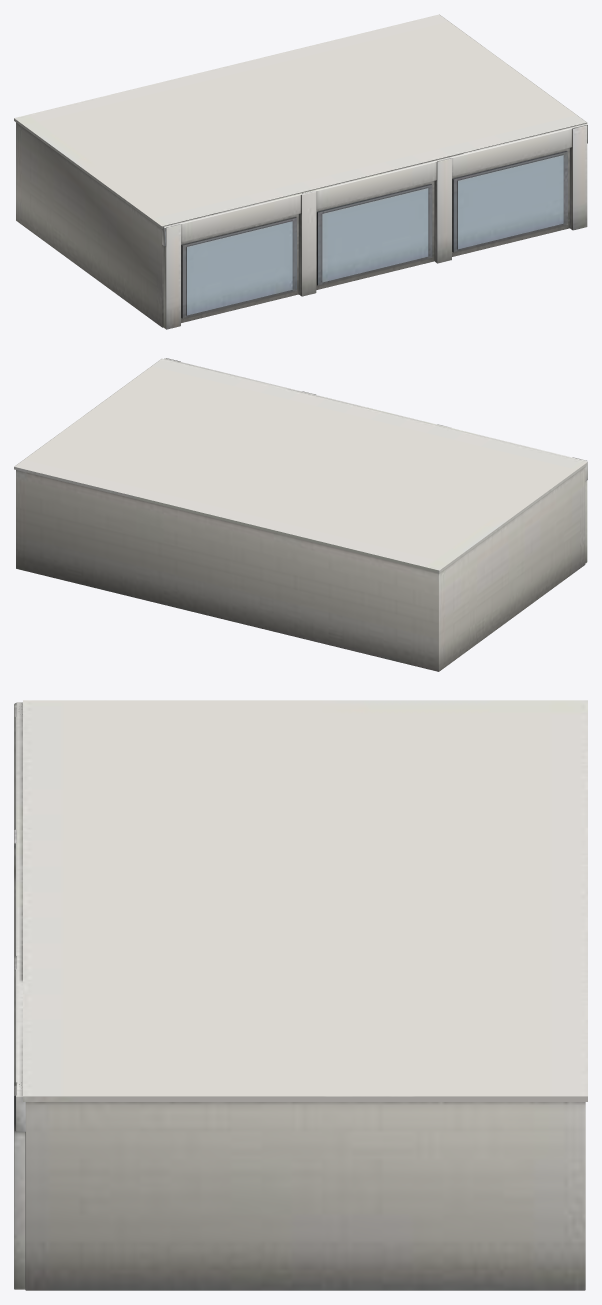
The model's file is bajo_tiendas.glb.
3 views of the same model, one above another, from view 1: azimuth 30°, elevation 25°; view 2: azimuth 150°, elevation 25°; view 3: azimuth 270°, elevation 25° (orthographic). The views are drawn at different scales.
Parts seen in each view (by area): view 1: bajo_tiendas; view 2: bajo_tiendas; view 3: bajo_tiendas.
Part boxes in pixels (x1,y1,x2,y2): bajo_tiendas: [14, 14, 587, 329]; bajo_tiendas: [14, 358, 587, 671]; bajo_tiendas: [14, 700, 587, 1290].
Bounding box in the file's own units: 20.1 × 4.62 × 12.3.
Materials: 1 (1 with a texture image).
